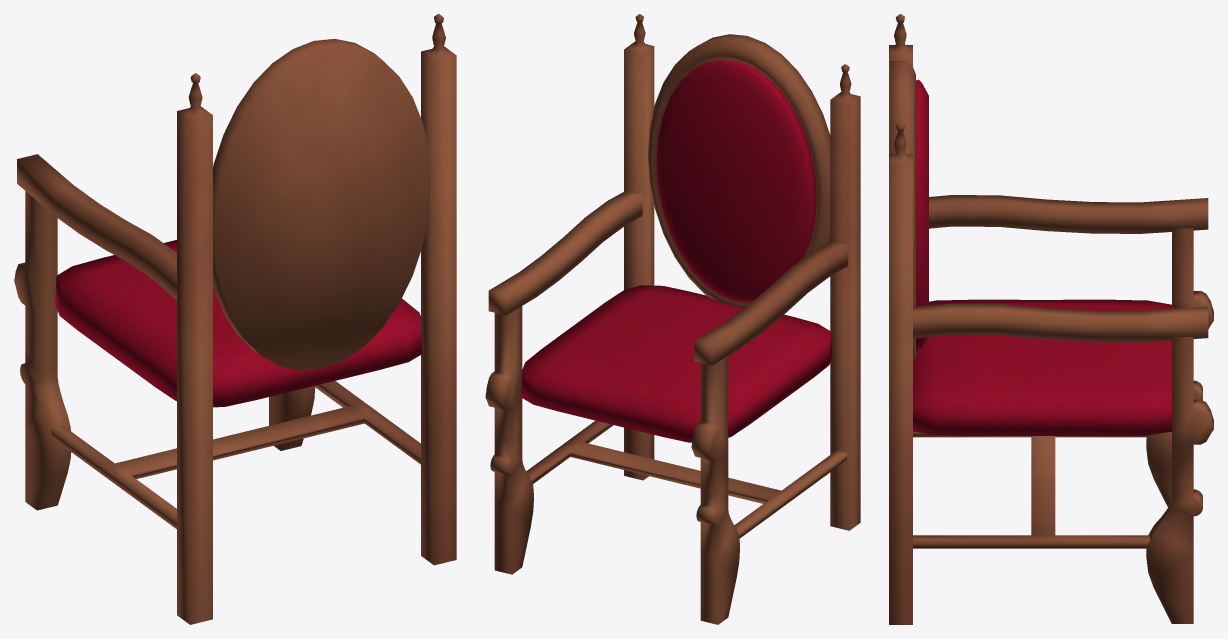
Rendered from Silla2.fbx.
The picture shows the model from 3 angles, left to right: view 1: azimuth 30°, elevation 25°; view 2: azimuth 150°, elevation 25°; view 3: azimuth 270°, elevation 25°; orthographic projection. The views are drawn at different scales.
Parts seen in each view (by area): view 1: Cube.048; view 2: Cube.048; view 3: Cube.048.
Part boxes in pixels (box(x1,y1,x2,y2)): Cube.048: box(14, 14, 456, 624); Cube.048: box(485, 14, 860, 624); Cube.048: box(889, 14, 1213, 624).
Bounding box in the file's own units: 36.05 × 70.35 × 41.61.
